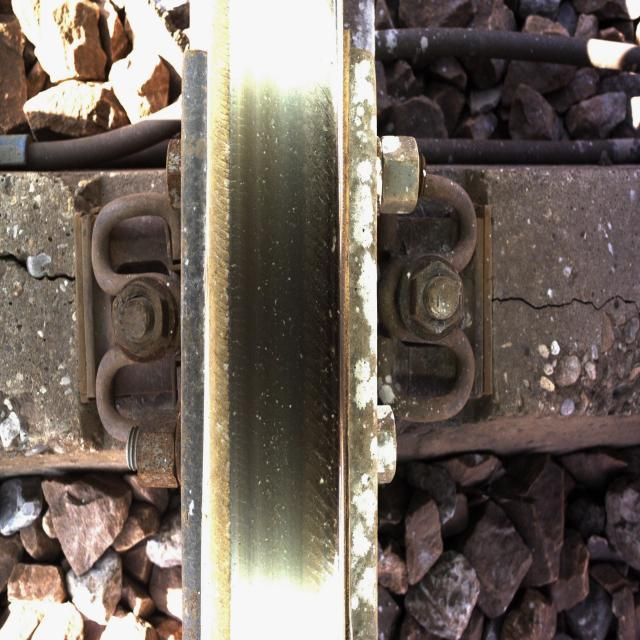break: (228, 46, 328, 622)
